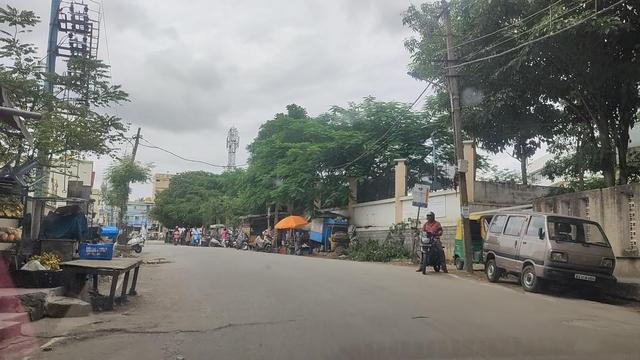RoadDamages: (89, 314, 288, 337)
